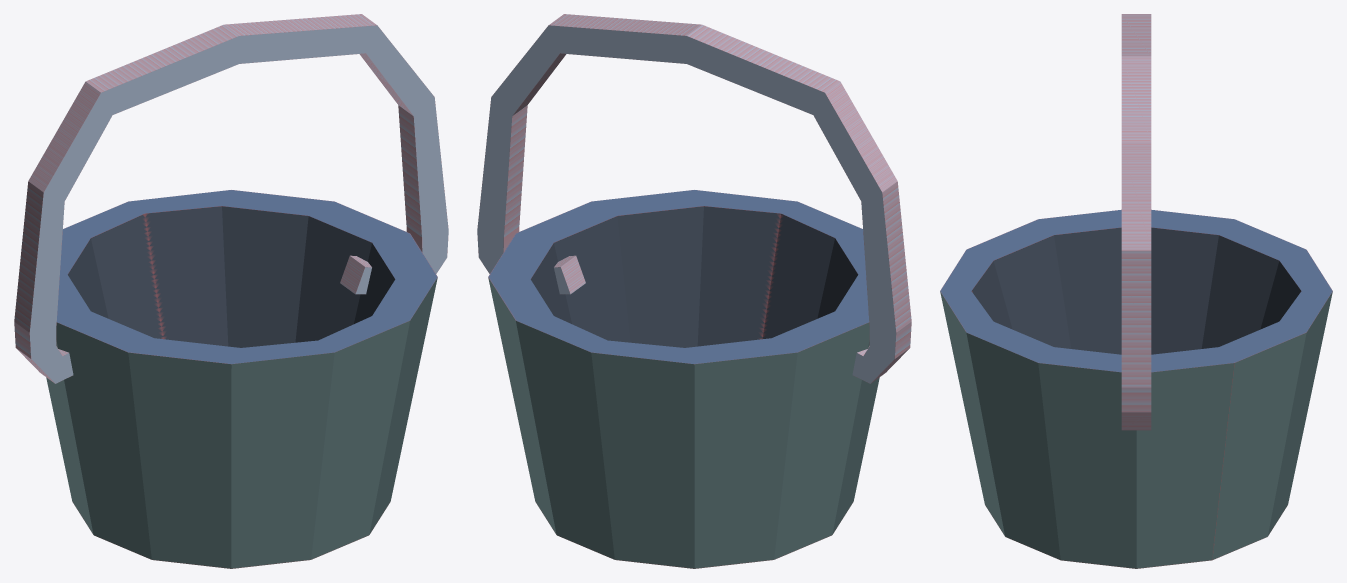
File: bucket.fbx
3 views of the same model, side by side, from view 1: azimuth 30°, elevation 25°; view 2: azimuth 150°, elevation 25°; view 3: azimuth 270°, elevation 25° (orthographic). The views are drawn at different scales.
Visible parts, largest first — view 1: bucket; view 2: bucket; view 3: bucket.
Boxes of the visible parts, x1,y1,x2,y2 form: bucket: [14, 14, 448, 568]; bucket: [477, 14, 911, 568]; bucket: [940, 14, 1332, 568].
Size of the model in its own units: 2.21 by 2.38 by 1.89.
